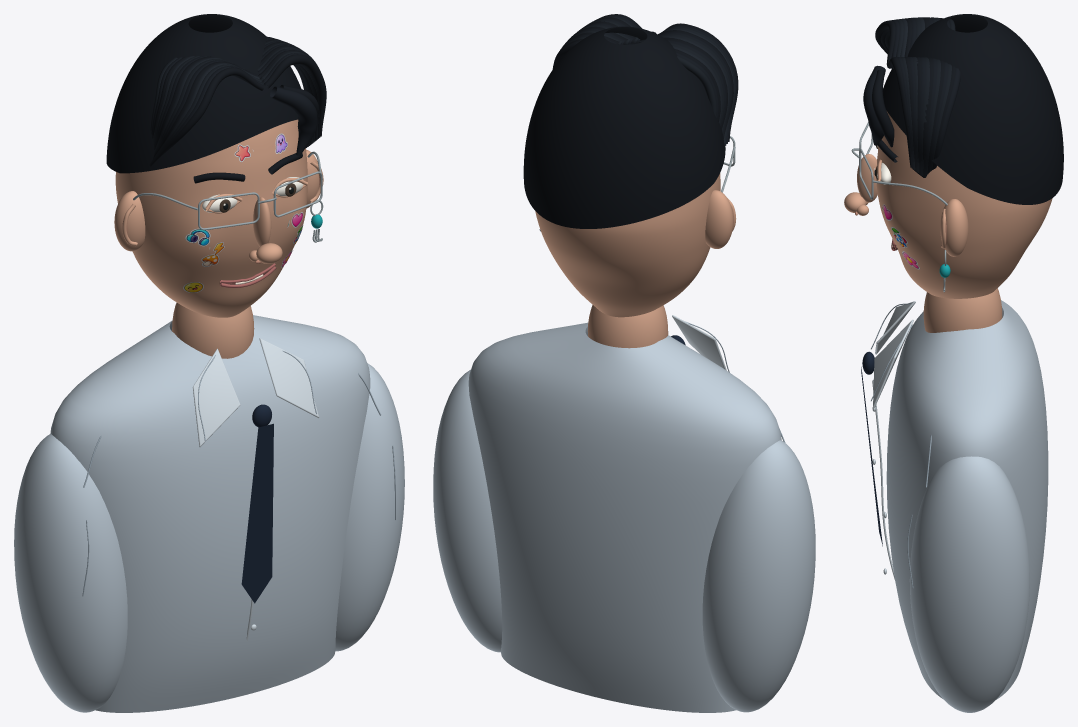
Rendered from lex.glb.
3 views of the same model, side by side, from view 1: azimuth 30°, elevation 25°; view 2: azimuth 150°, elevation 25°; view 3: azimuth 270°, elevation 25° (orthographic). The views are drawn at different scales.
Visible parts, largest first — view 1: Lex shirt torso, Lex shirt sleeve -1, LexFace, Lex parted hair cap, Lex shirt sleeve 1, Lex tie blade, Lex neck, Lex pointed collar -1, Lex pointed collar 1, Lex front fringe, Lex ear -1, Lex left swept lock 0 (+2 smaller); view 2: Lex shirt torso, Lex parted hair cap, Lex shirt sleeve -1, LexFace, Lex shirt sleeve 1, Lex neck, Lex ear -1, Lex pointed collar -1; view 3: Lex shirt torso, Lex shirt sleeve 1, Lex parted hair cap, LexFace, Lex neck, Lex ear 1, Lex pointed collar 1, Lex fine fringe, Lex front fringe, Lex nose bridge, Lex right swept lock 0, Lex pointed collar -1 (+11 smaller).
Part boxes in pixels (box(x1,y1,x2,y2)): Lex shirt torso: box(50, 315, 370, 712); Lex shirt sleeve -1: box(14, 434, 127, 712); LexFace: box(115, 119, 307, 317); Lex parted hair cap: box(106, 14, 301, 173); Lex shirt sleeve 1: box(335, 363, 404, 651); Lex tie blade: box(241, 423, 273, 603); Lex neck: box(172, 302, 254, 358); Lex pointed collar -1: box(192, 348, 240, 446); Lex pointed collar 1: box(259, 338, 319, 417); Lex front fringe: box(270, 86, 317, 156); Lex ear -1: box(114, 191, 145, 251); Lex left swept lock 0: box(150, 67, 264, 165); Lex shirt torso: box(468, 322, 781, 712); Lex parted hair cap: box(523, 26, 725, 228); Lex shirt sleeve -1: box(702, 440, 815, 712); LexFace: box(535, 173, 720, 317); Lex shirt sleeve 1: box(433, 369, 502, 652); Lex neck: box(587, 305, 668, 348); Lex ear -1: box(705, 190, 733, 248); Lex pointed collar -1: box(672, 315, 726, 370); Lex shirt torso: box(886, 300, 1048, 699); Lex shirt sleeve 1: box(909, 456, 1029, 712); Lex parted hair cap: box(882, 14, 1063, 204); LexFace: box(876, 111, 1052, 298); Lex neck: box(923, 288, 1002, 332); Lex ear 1: box(940, 199, 968, 256); Lex pointed collar 1: box(873, 319, 913, 408); Lex fine fringe: box(872, 69, 894, 147); Lex front fringe: box(863, 65, 885, 145); Lex nose bridge: box(857, 154, 877, 202); Lex right swept lock 0: box(887, 57, 912, 167); Lex pointed collar -1: box(875, 301, 915, 354).
Size of the model in its own units: 1.19 by 2.01 by 0.6359.
20 materials, 1 textured.
